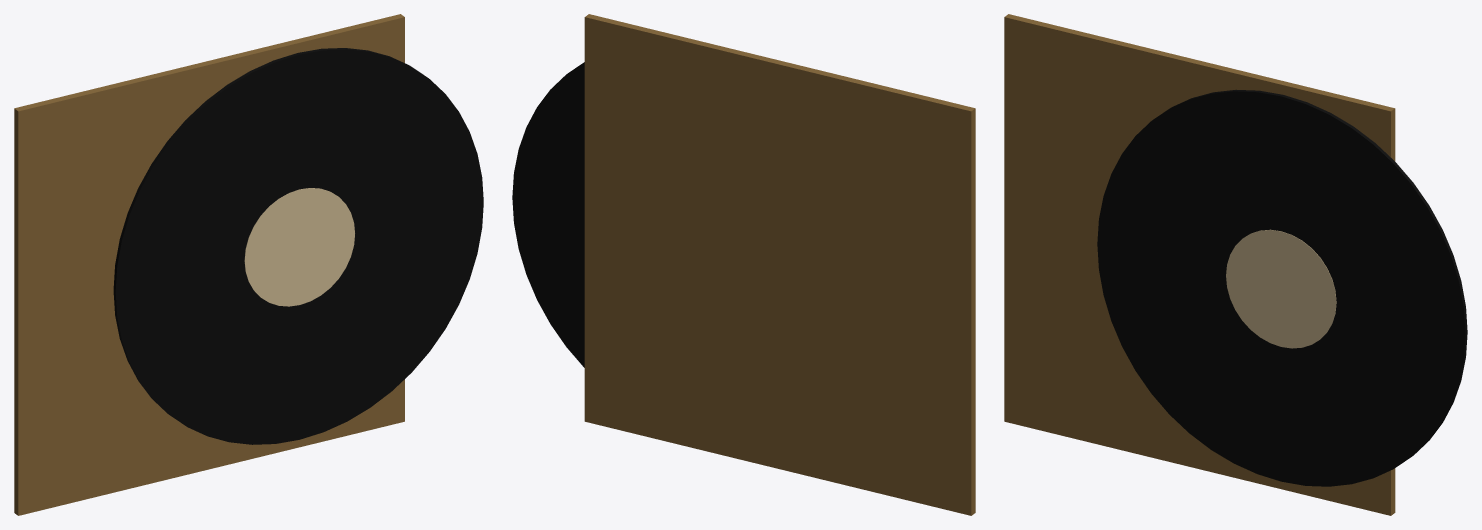
Rendered from record-6.glb.
The picture shows the model from 3 angles, left to right: view 1: azimuth 30°, elevation 25°; view 2: azimuth 150°, elevation 25°; view 3: azimuth 330°, elevation 25°; orthographic projection.
Size of the model in its own units: 0.3775 by 0.315 by 0.0093.
